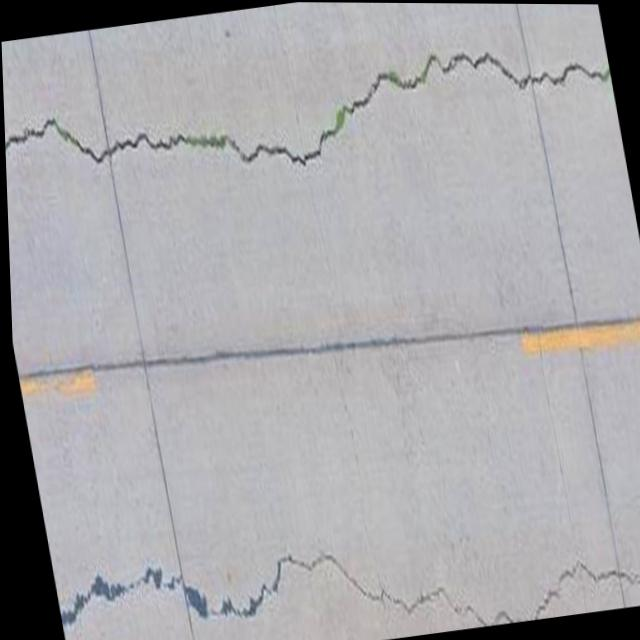Crack: (0, 2, 625, 250), (47, 481, 640, 640)
